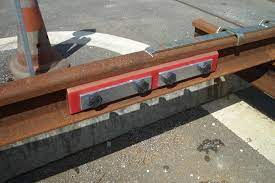insulated joint: (66, 50, 219, 117)
